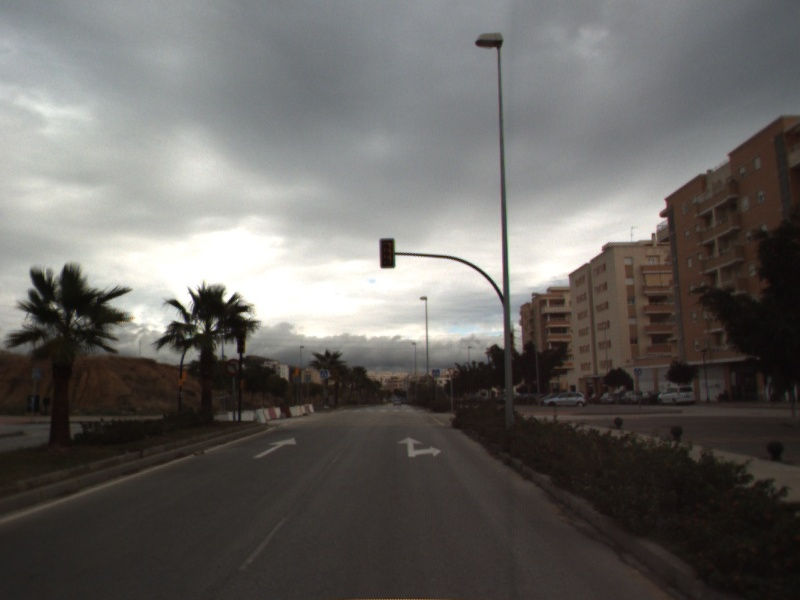STRAIGHT: (251, 435, 299, 460)
STRAIGHT_RIGHT: (395, 435, 444, 459)
